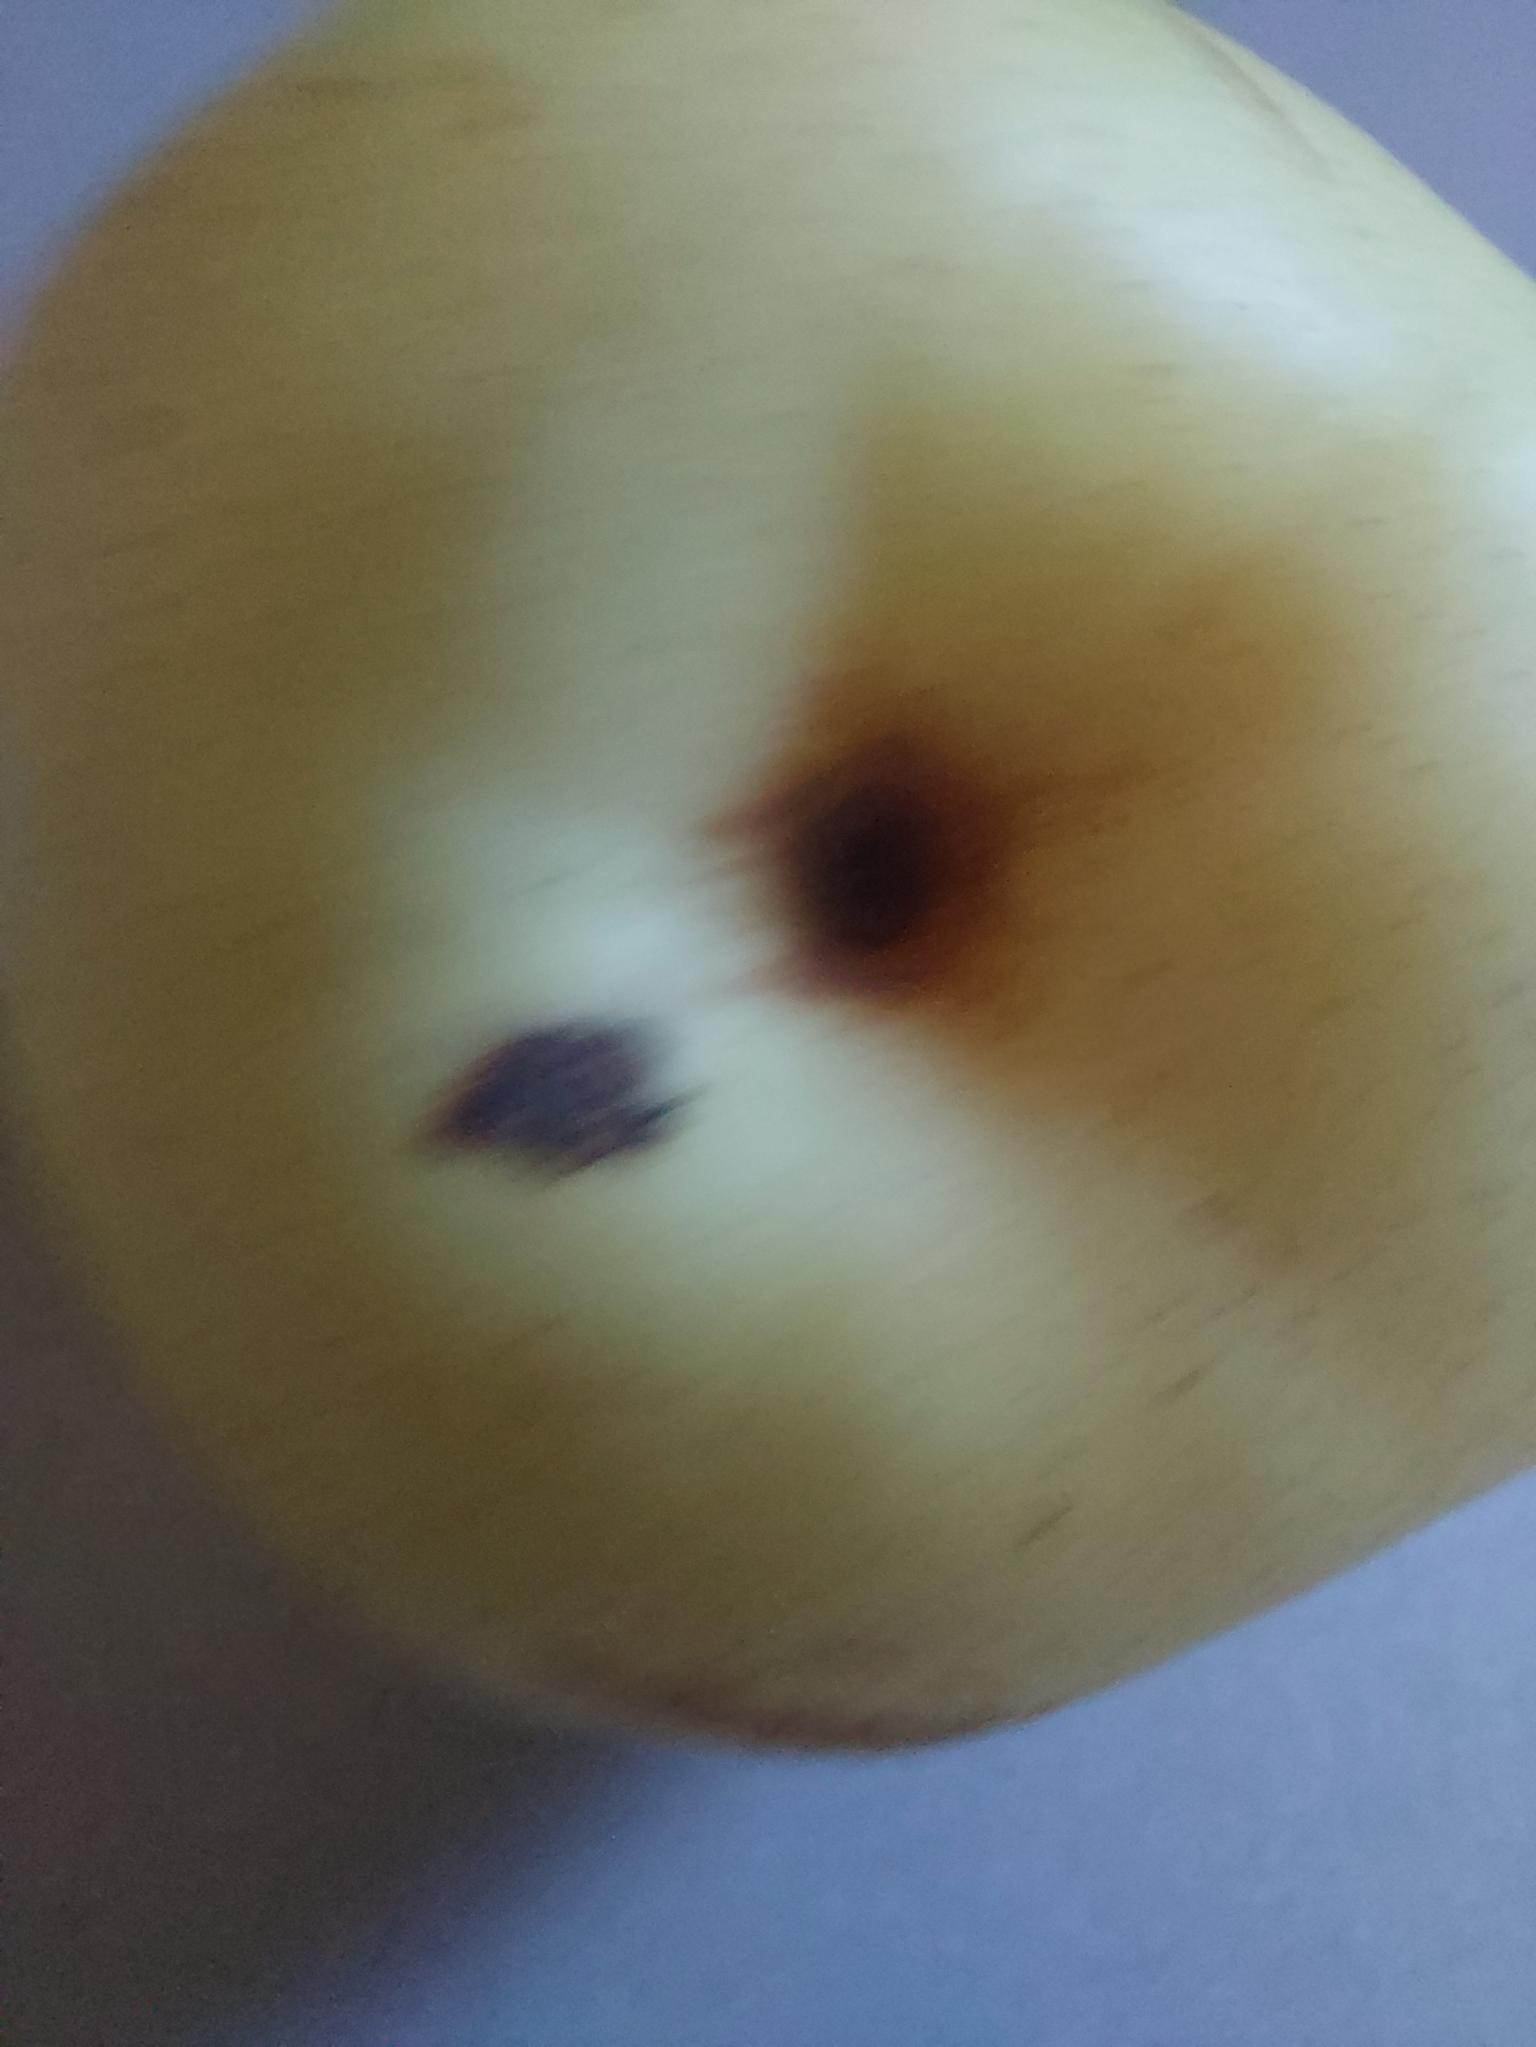Good Pear: (0, 2, 1536, 1794)
